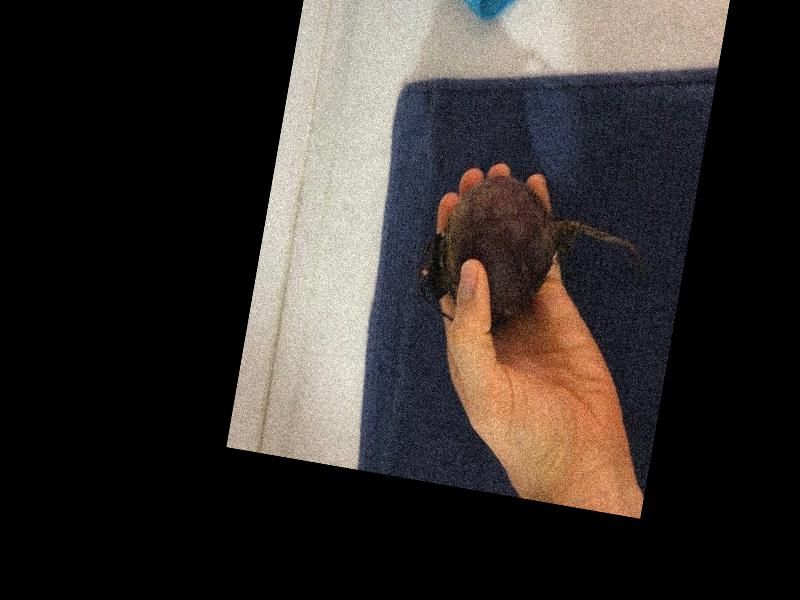Beet: (411, 165, 650, 352)
